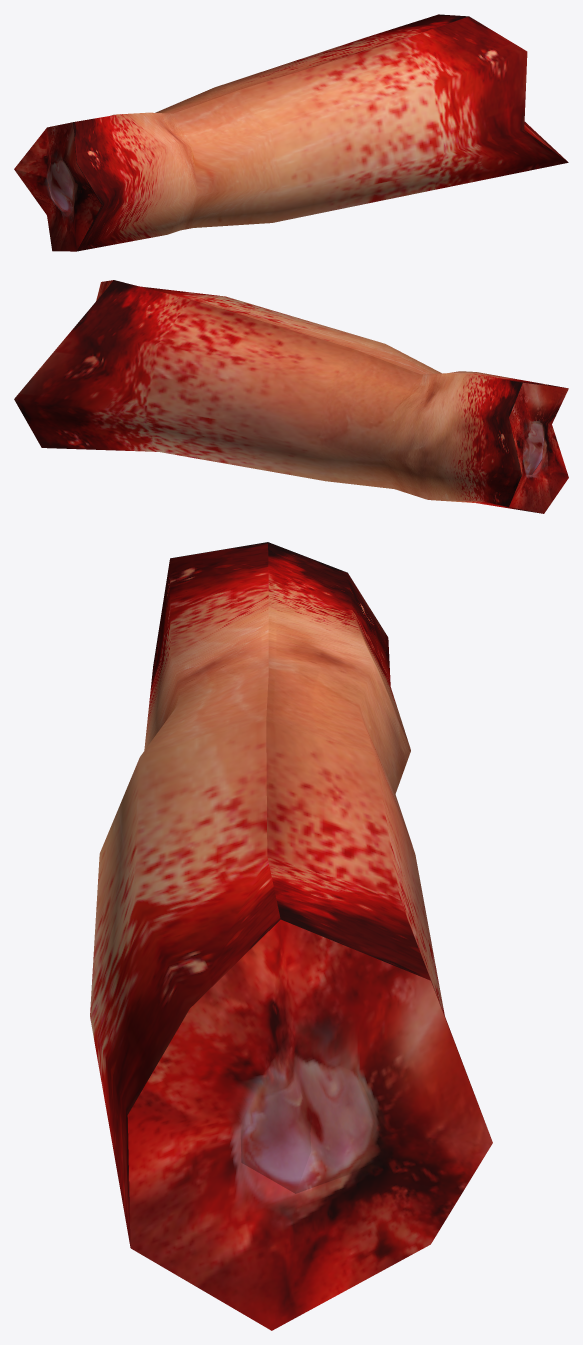
File: female_rt_uparm.fbx
3 renders of one model, top to bottom at view 1: azimuth 30°, elevation 25°; view 2: azimuth 150°, elevation 25°; view 3: azimuth 270°, elevation 25°, orthographic. The views are drawn at different scales.
Parts seen in each view (by area): view 1: fm_rt_uparm_gib; view 2: fm_rt_uparm_gib; view 3: fm_rt_uparm_gib.
Part boxes in pixels (x1,y1,x2,y2): fm_rt_uparm_gib: (14, 14, 568, 251); fm_rt_uparm_gib: (14, 280, 568, 513); fm_rt_uparm_gib: (90, 542, 492, 1330).
Bounding box in the file's own units: 0.3877 × 0.1208 × 0.1328.
